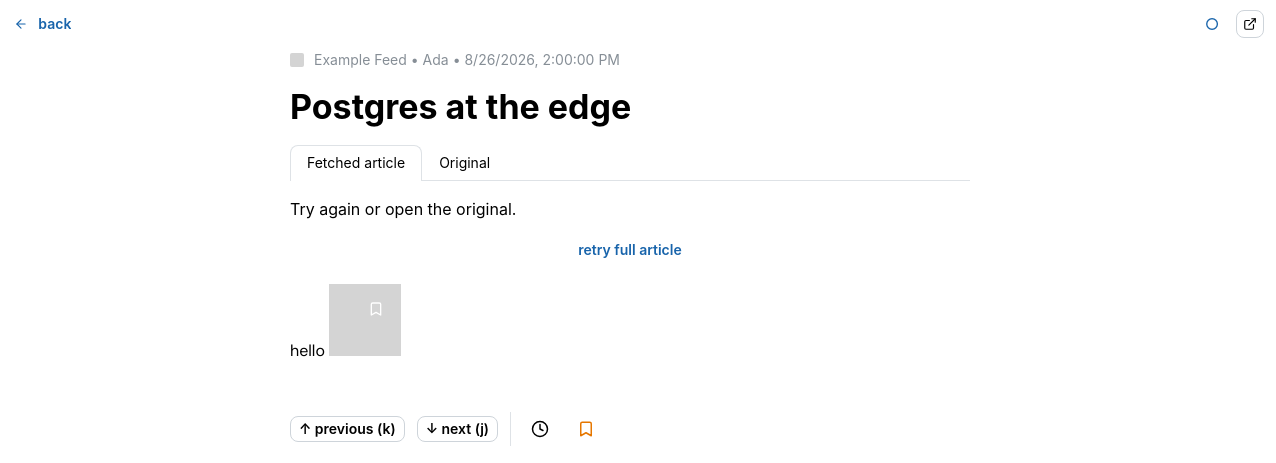
Test: full article reader controls › keeps the feed visible and exposes an accessible manual retry after automatic failure
expect the element with class "reading-content" reads "hello": met, box [290,340,329,361]
expect the message shows "Try again": met, box [290,199,516,219]
What coordinates should you click on to do the following:
click the button "retry full article"
I would click on:
 (630, 250)
Its box is [290,232,970,268].
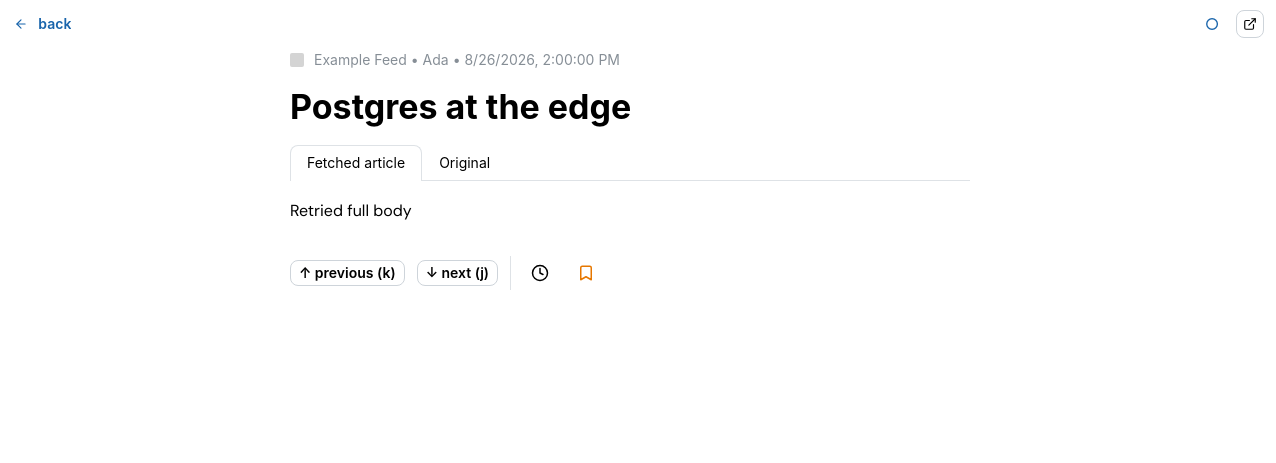
expect the text with class "reading-content" reads "Retried full body": met, box [290,200,412,221]
